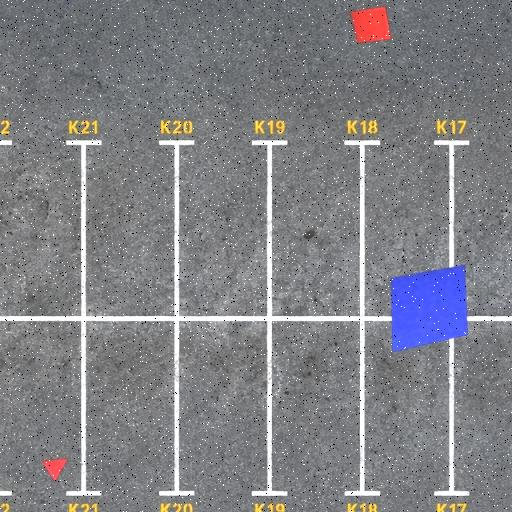BLUE_SQUARE: (390, 264, 468, 353)
RED_SQUARE: (350, 6, 392, 44)
